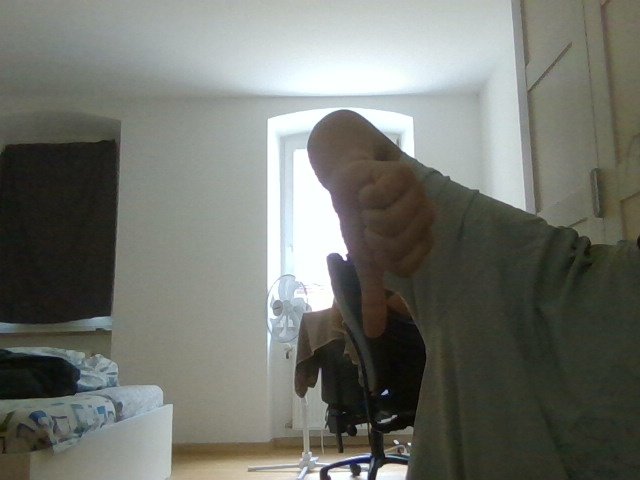Thumbs down: (313, 170, 444, 342)
